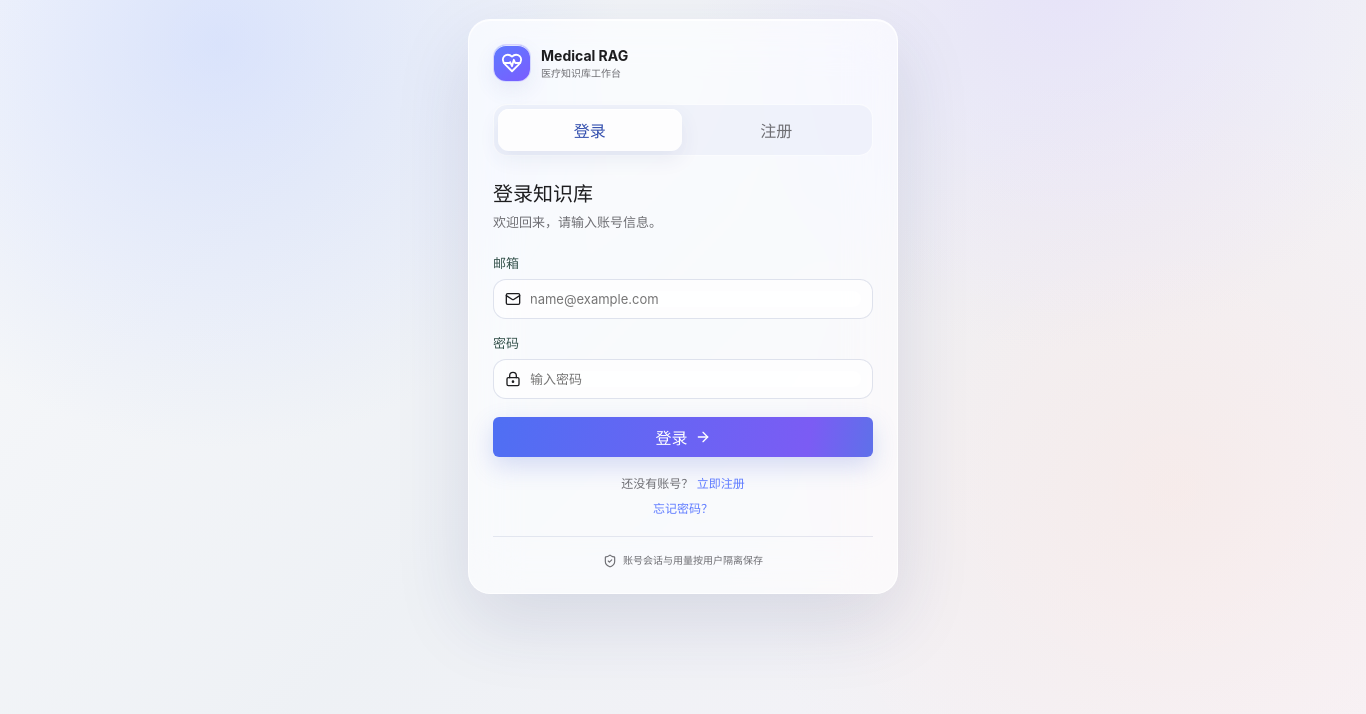
前端认证流程 › 注册先请求验证码并在成功后回到登录模式
Click the tab "注册" at (776, 130), box top-left (684, 109), bottom-right (868, 151)
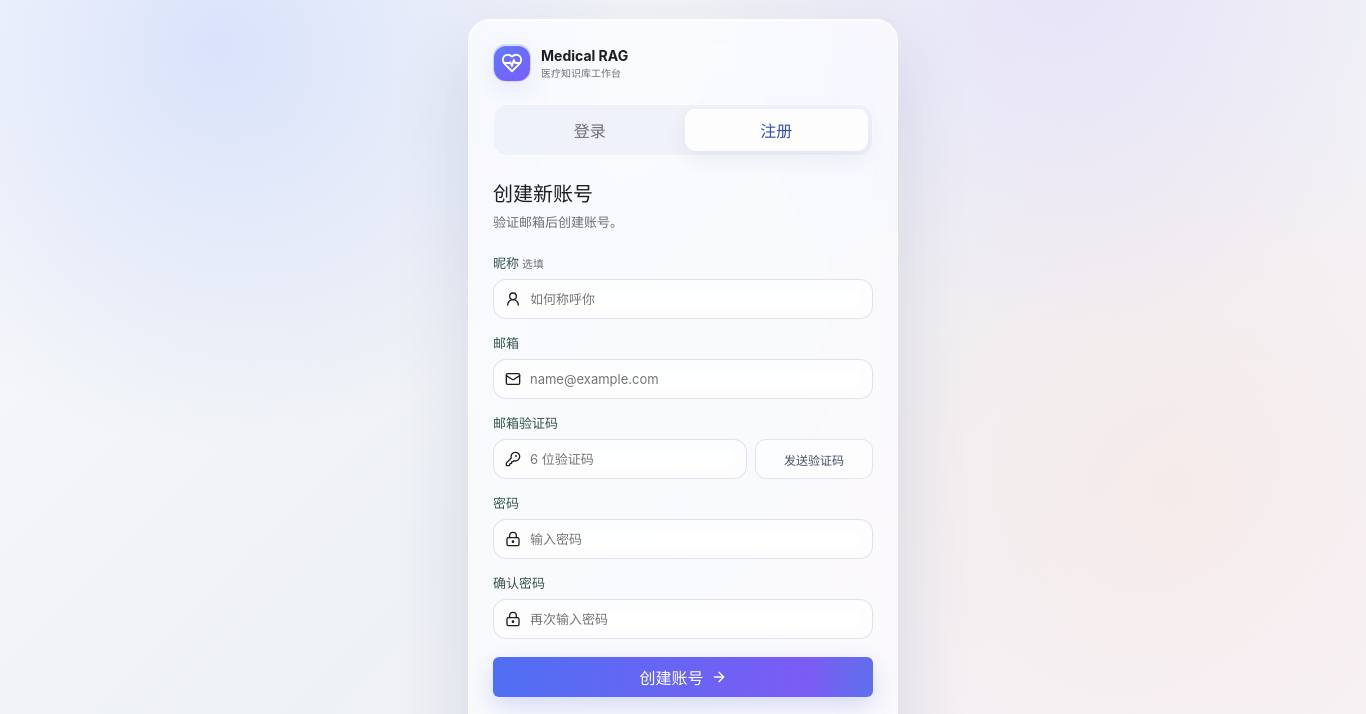
Type "new@example.com" into the field labelled "邮箱" at (696, 379), box top-left (530, 371), bottom-right (861, 387)
Click the button "发送验证码" at (814, 459), box top-left (755, 439), bottom-right (873, 479)
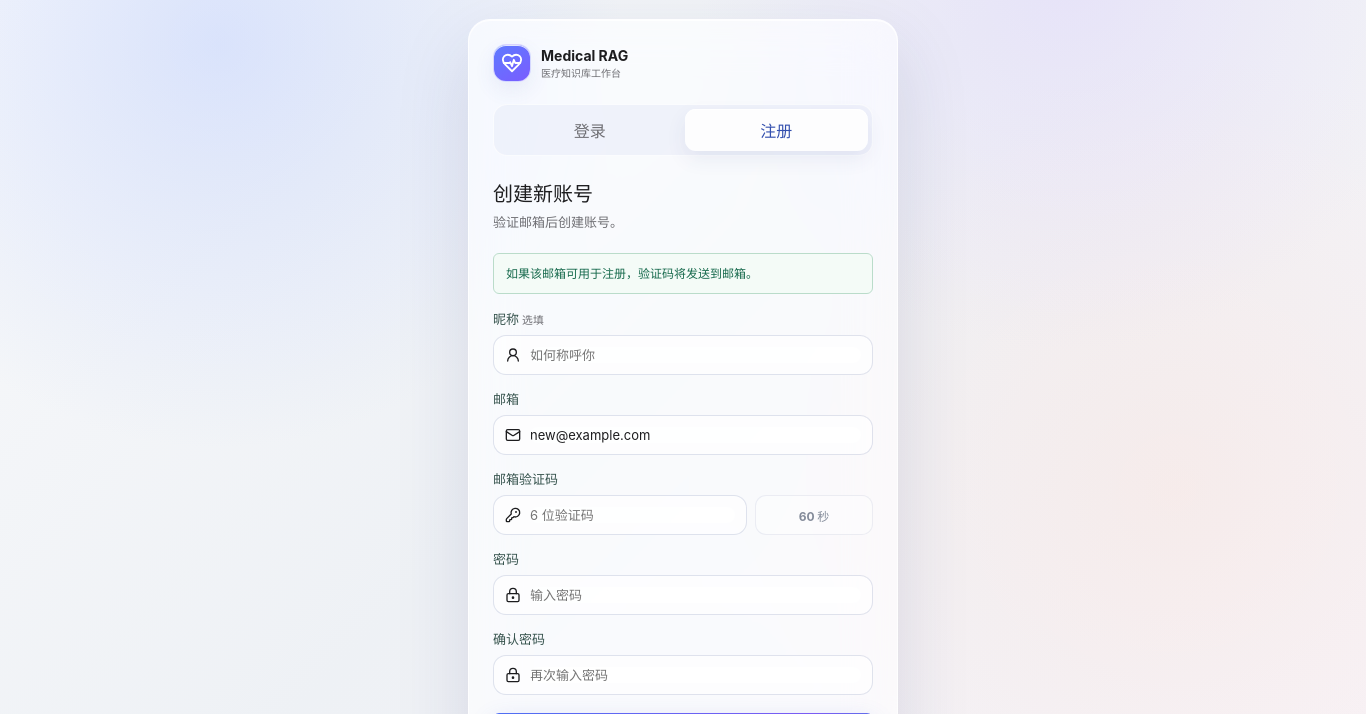
Expected: the message "如果该邮箱可用于注册，验证码将发送到邮箱。" is shown, top-left (493, 253), bottom-right (873, 294)
Type "123456" into the field labelled "邮箱验证码 60 秒" at (632, 515), box top-left (530, 507), bottom-right (735, 523)
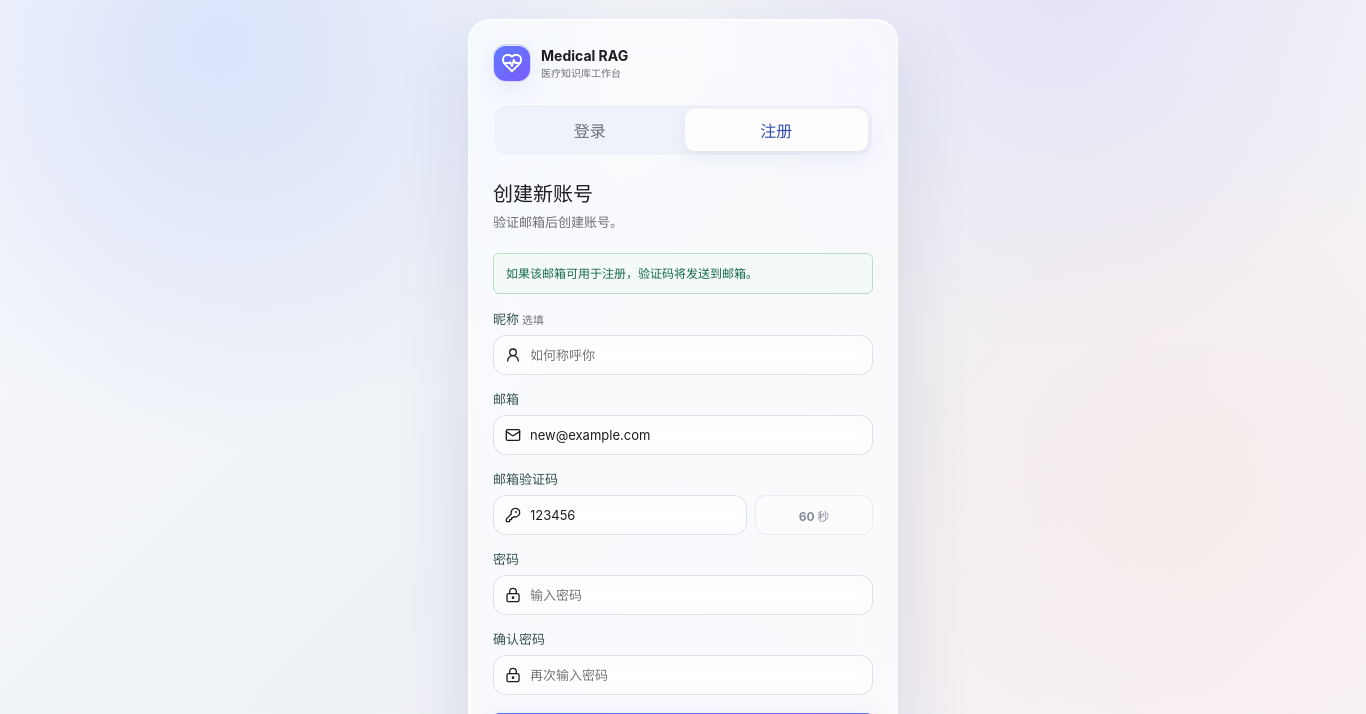
Type "password123" into the password field labelled "密码" at (696, 595), box top-left (530, 587), bottom-right (861, 603)
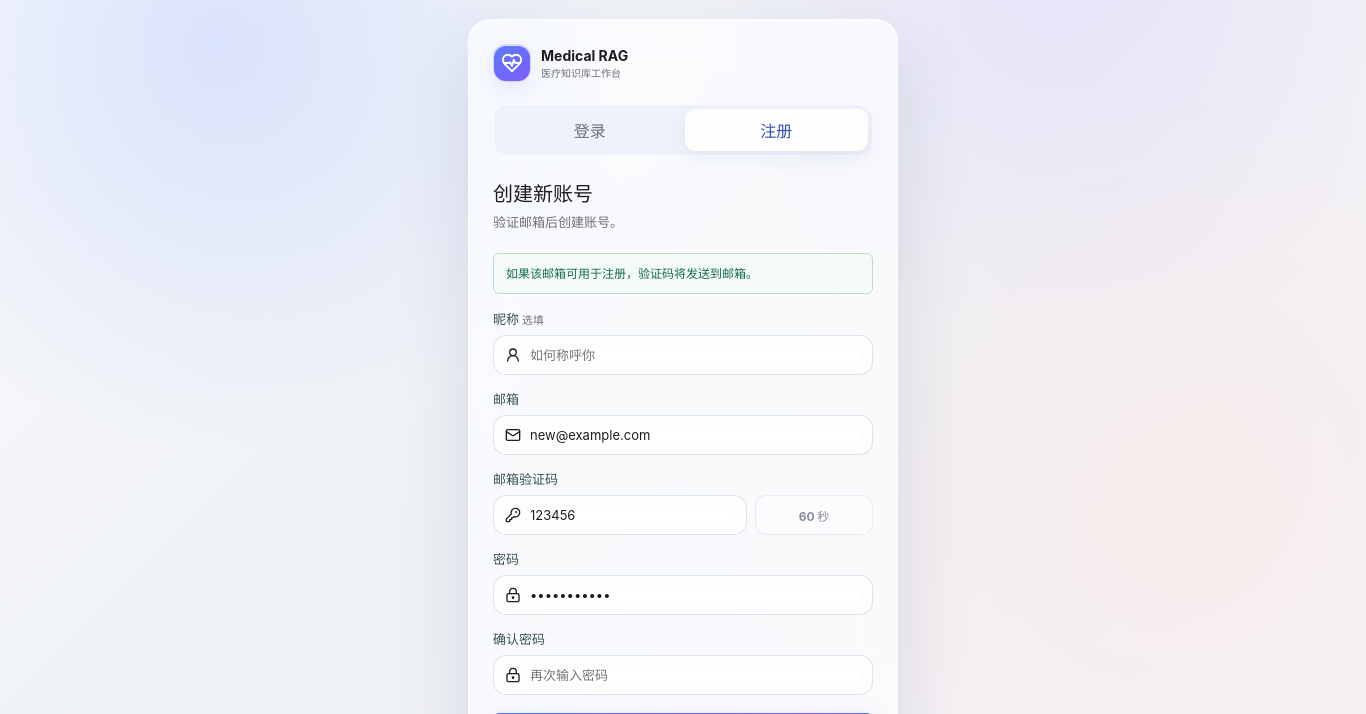
Type "password123" into the password field labelled "确认密码" at (696, 675), box top-left (530, 667), bottom-right (861, 683)
(page scrolled)
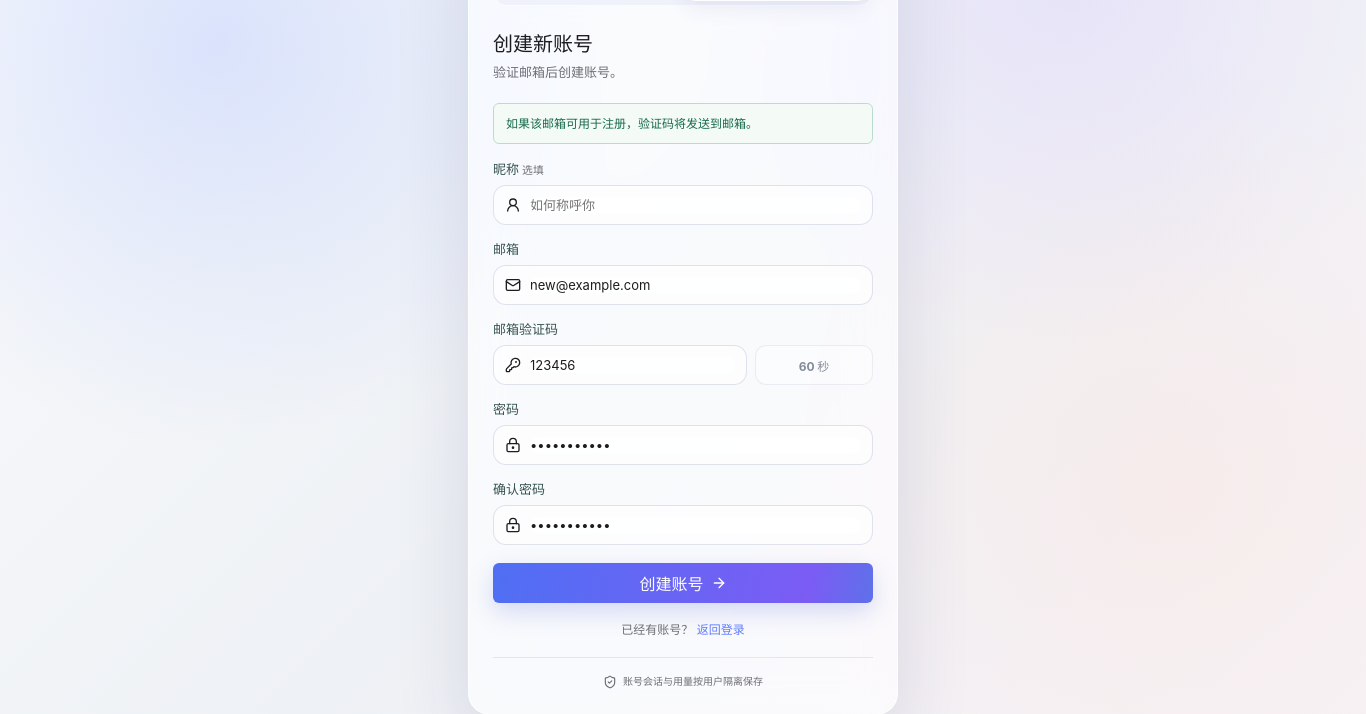
Submit the form, box top-left (493, 159), bottom-right (873, 603)
(page scrolled)
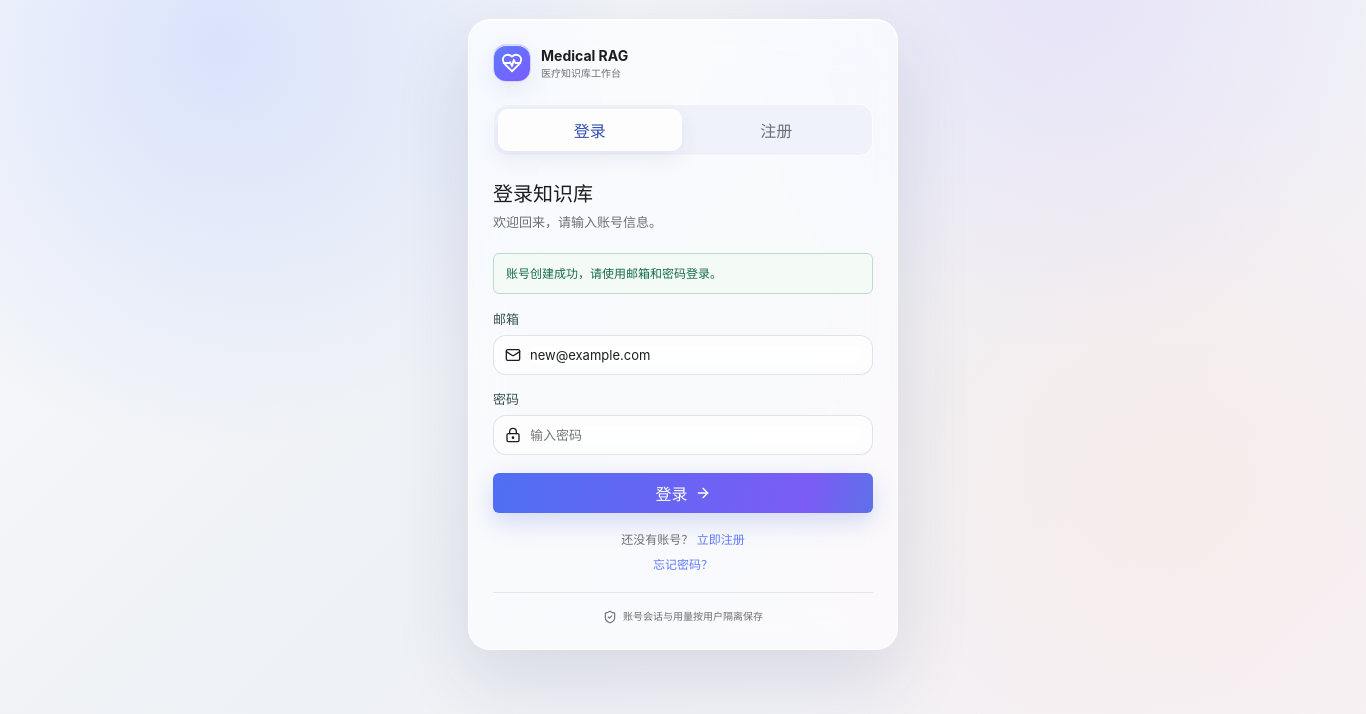
Expected: the heading "登录知识库" is shown, top-left (493, 182), bottom-right (593, 206)
Expected: the message "账号创建成功，请使用邮箱和密码登录。" is shown, top-left (493, 253), bottom-right (873, 294)
